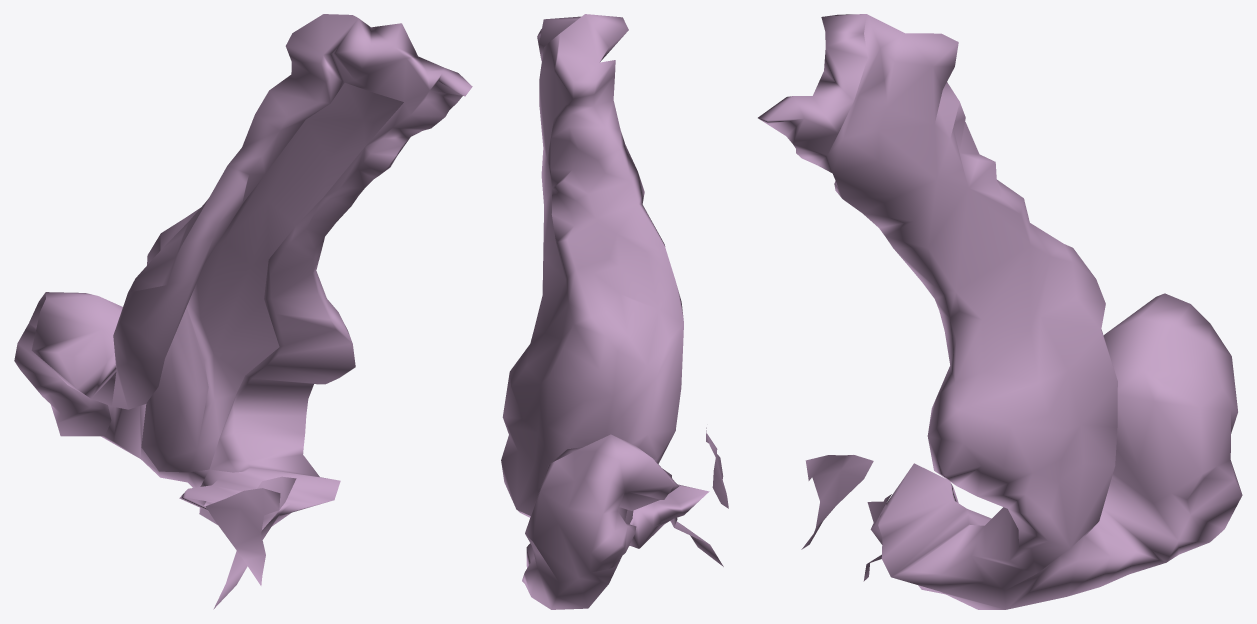
3 views of the same model, side by side, from view 1: azimuth 30°, elevation 25°; view 2: azimuth 150°, elevation 25°; view 3: azimuth 270°, elevation 25° (orthographic). The views are drawn at different scales.
Parts seen in each view (by area): view 1: 右侧枕颞内侧回（海马旁回）; view 2: 右侧枕颞内侧回（海马旁回）; view 3: 右侧枕颞内侧回（海马旁回）.
Part boxes in pixels (left/top/right/bottom): 右侧枕颞内侧回（海马旁回）: left=14, top=14, right=472, bottom=609; 右侧枕颞内侧回（海马旁回）: left=501, top=14, right=728, bottom=609; 右侧枕颞内侧回（海马旁回）: left=758, top=14, right=1242, bottom=609.
Size of the model in its own units: 0.0465 by 0.0866 by 0.0584.
